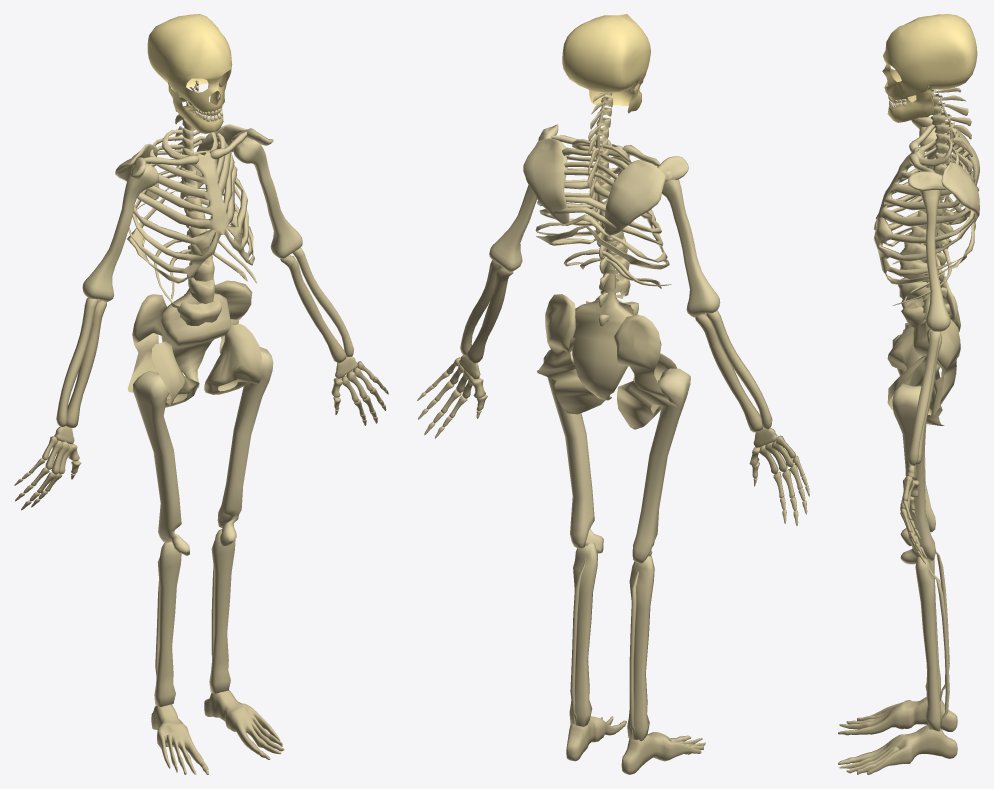
File: Skeleton.fbx
3 views of the same model, side by side, from view 1: azimuth 30°, elevation 25°; view 2: azimuth 150°, elevation 25°; view 3: azimuth 270°, elevation 25° (orthographic). The views are drawn at different scales.
Parts seen in each view (by area): view 1: Rib Cage, Femur, Ilium, Skull, Tibia, Humerus, Feet, Cube, Spine2, spine, Ulna, Radius (+1 smaller); view 2: Ilium, Femur, Tibia, Clavicle And Shoulder, Rib Cage, Skull, spine, Cube, Humerus, Feet, Spine2, Ulna (+1 smaller); view 3: Skull, Rib Cage, Feet, Spine2, Ilium, Tibia, Femur, Clavicle And Shoulder, Humerus, Radius, Cube, spine (+1 smaller).
Part boxes in pixels (box(x1,y1,x2,y2)): Rib Cage: box(127, 128, 256, 303); Femur: box(133, 347, 273, 555); Ilium: box(127, 280, 262, 407); Skull: box(147, 14, 232, 133); Tibia: box(154, 529, 235, 706); Humerus: box(82, 137, 302, 302); Feet: box(151, 690, 284, 774); Cube: box(14, 356, 388, 510); Spine2: box(171, 81, 221, 325); spine: box(160, 80, 230, 387); Ulna: box(66, 255, 346, 428); Radius: box(56, 247, 353, 426); Ilium: box(537, 294, 676, 429); Femur: box(543, 349, 690, 563); Tibia: box(569, 543, 654, 741); Clavicle And Shoulder: box(523, 124, 688, 235); Rib Cage: box(535, 139, 671, 288); Skull: box(562, 14, 650, 113); spine: box(572, 95, 633, 400); Cube: box(417, 355, 809, 525); Humerus: box(489, 141, 720, 317); Feet: box(566, 716, 705, 774); Spine2: box(586, 92, 638, 326); Ulna: box(466, 267, 762, 432); Skull: box(882, 14, 977, 122); Rib Cage: box(873, 128, 979, 305); Feet: box(838, 696, 957, 774); Spine2: box(898, 87, 972, 327); Ilium: box(887, 276, 960, 425); Tibia: box(915, 551, 949, 731); Femur: box(892, 334, 935, 564); Clavicle And Shoulder: box(908, 117, 979, 223); Humerus: box(919, 126, 950, 331); Radius: box(908, 330, 940, 465); Cube: box(900, 323, 926, 563); spine: box(913, 89, 956, 374).
Size of the model in its own units: 832 by 1515 by 266.
